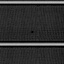dust: (29, 29, 34, 33)
